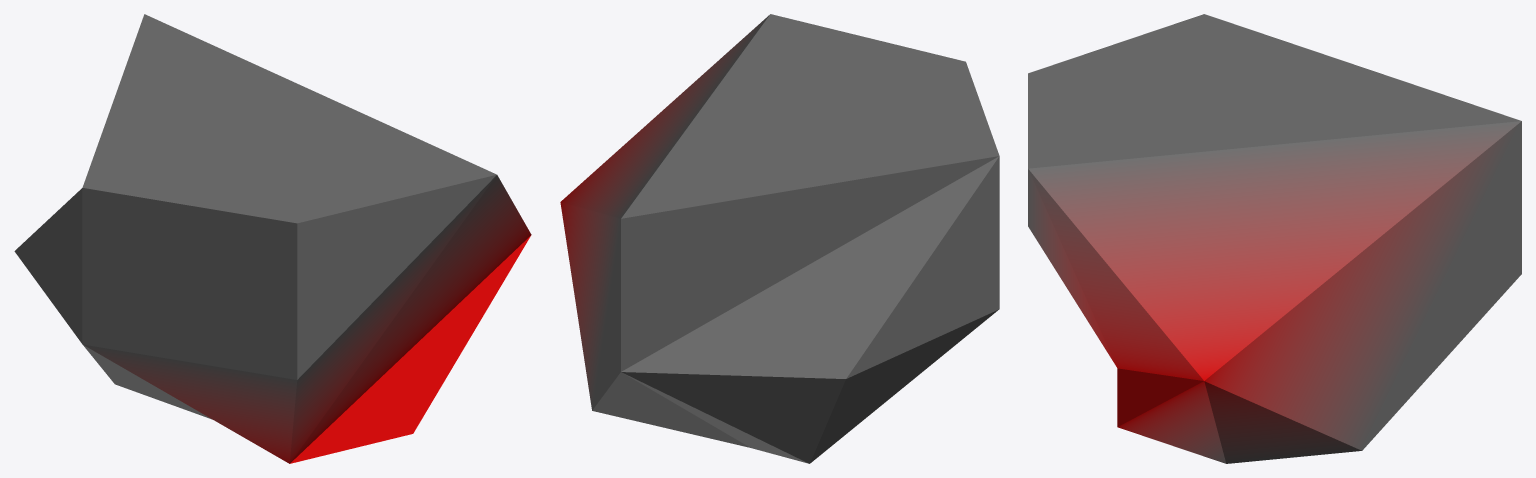
Rendered from before_recreation_0.obj.
3 views of the same model, side by side, from view 1: azimuth 30°, elevation 25°; view 2: azimuth 150°, elevation 25°; view 3: azimuth 270°, elevation 25° (orthographic). The views are drawn at different scales.
Bounding box in the file's own units: 1.85 × 1.31 × 1.81.
